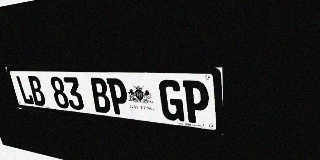3: (63, 77, 85, 111)
8: (49, 76, 70, 109)
B: (89, 78, 112, 114), (27, 76, 47, 106)
G: (158, 80, 184, 122)
L: (15, 75, 35, 105)
P: (182, 80, 210, 125), (106, 78, 130, 116)
